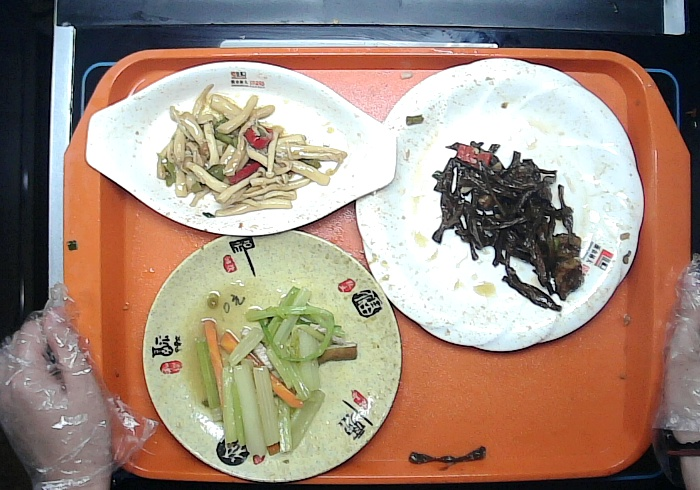NLDX-Bai_Zhe_Yuan_Pan: (352, 55, 646, 353)
NLDX-Fu_Zi_Yuan_Pan: (141, 228, 403, 485)
NLDX-Yu_Pan: (84, 59, 398, 239)
